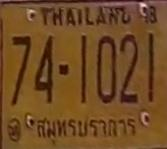0: (95, 35, 117, 104)
1: (147, 33, 155, 103), (81, 35, 86, 105)
2: (120, 35, 139, 103)
4: (33, 35, 53, 101)
7: (9, 35, 31, 107)
SPK: (34, 112, 138, 141)
